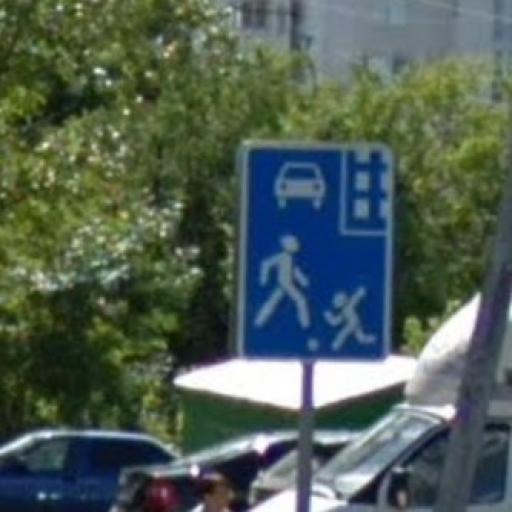traffic_sign: (239, 144, 396, 368)
